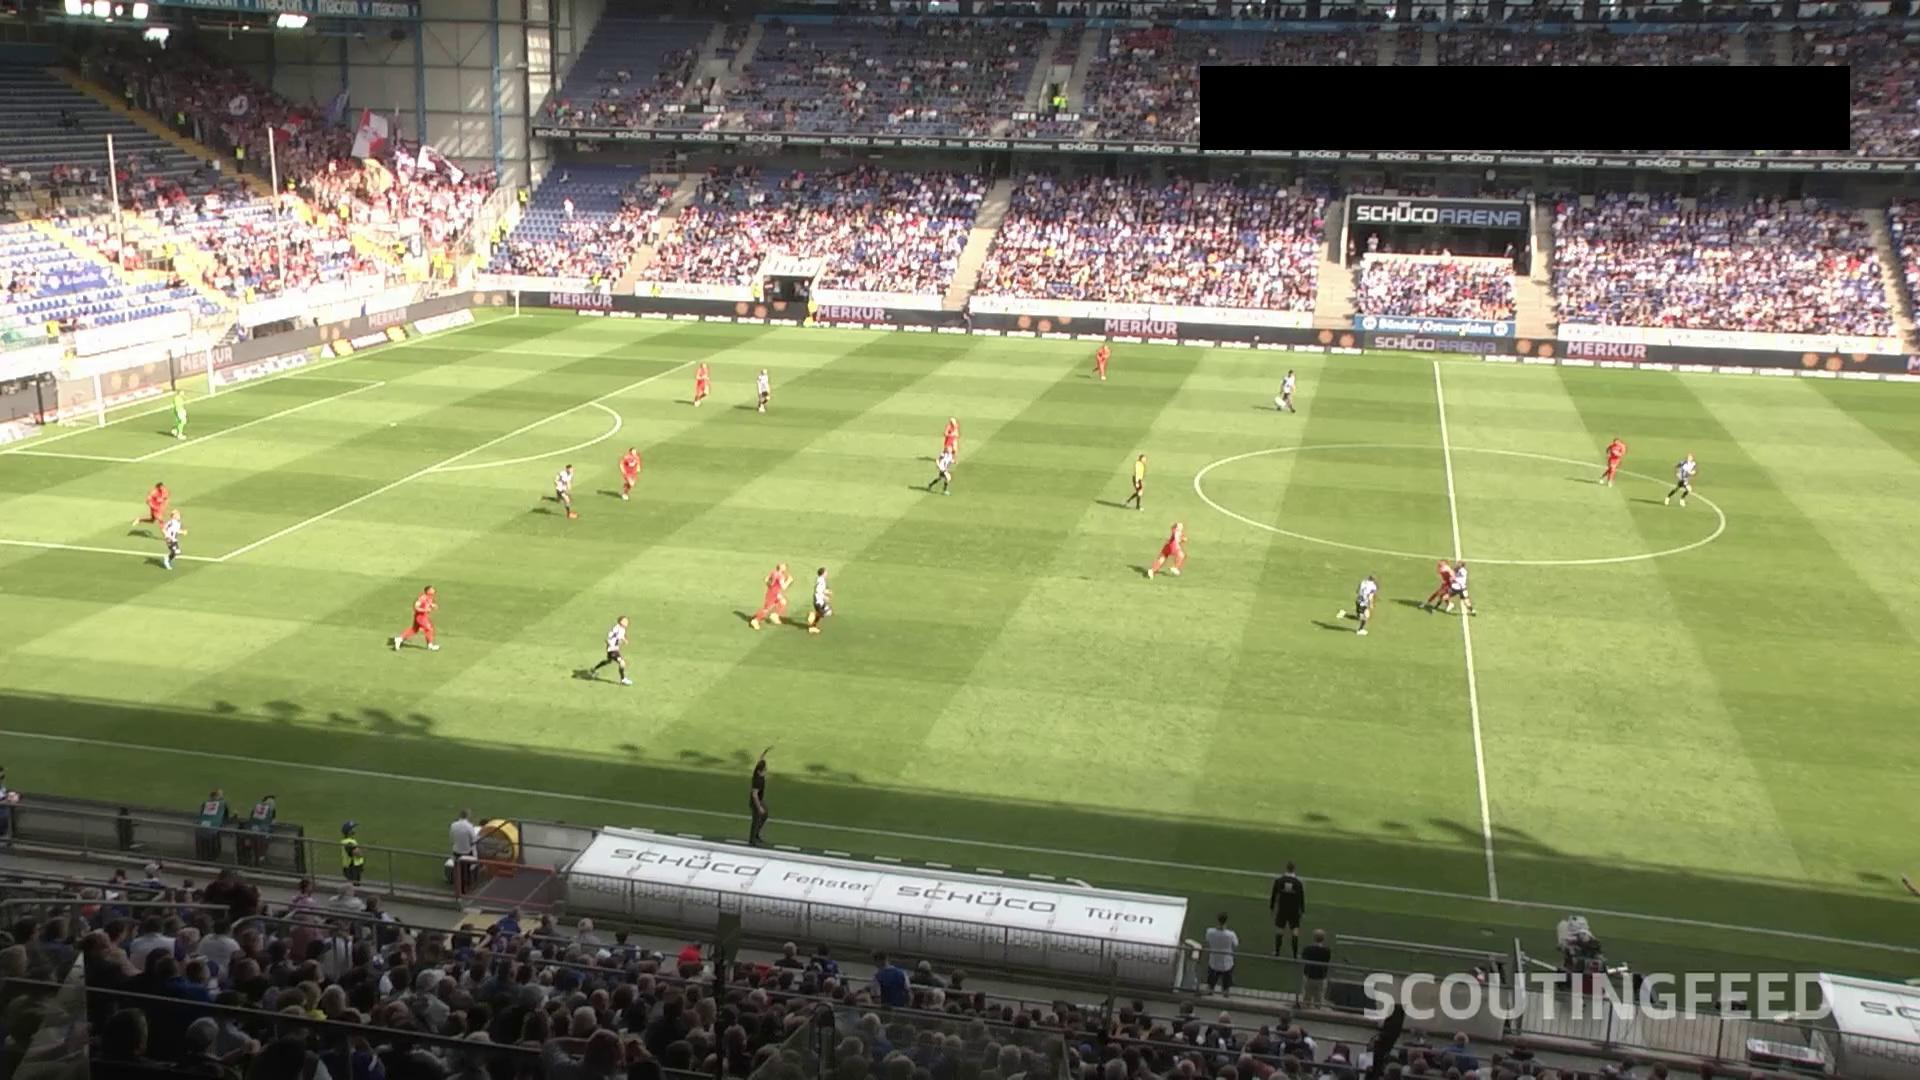Location-of-ball: (1270, 388, 1300, 417)
